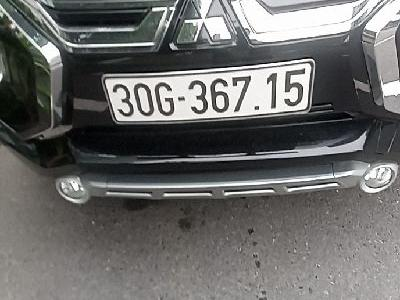number: (103, 62, 310, 122)
